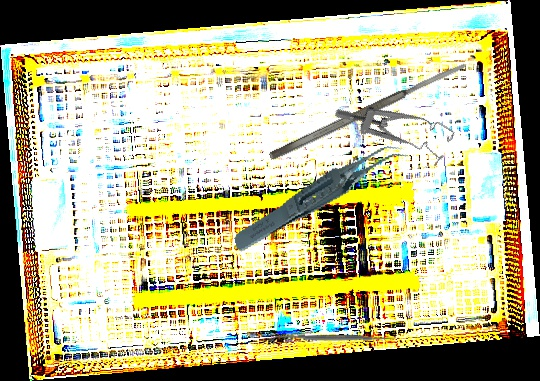Spatula Surgical: (267, 59, 470, 163), (271, 329, 397, 347)
Speculum: (332, 73, 459, 177)
Tissue Forceps: (221, 141, 421, 254)
